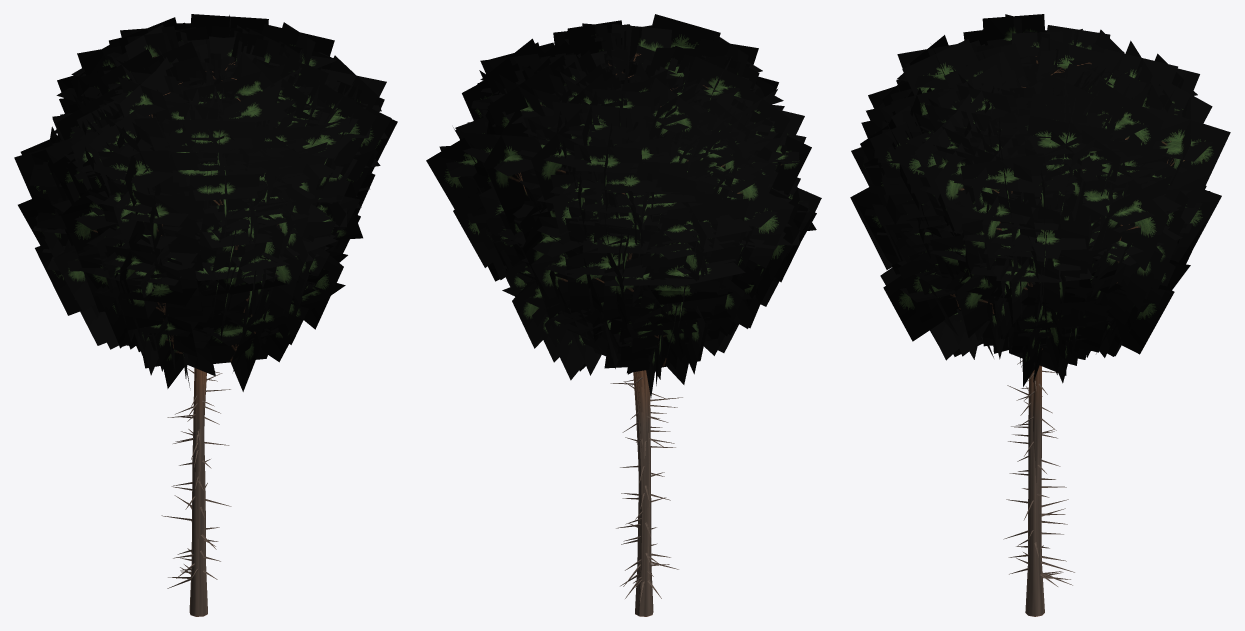
Rendered from tree_pine.glb.
3 views of the same model, side by side, from view 1: azimuth 30°, elevation 25°; view 2: azimuth 150°, elevation 25°; view 3: azimuth 270°, elevation 25° (orthographic).
Visible parts, largest first — view 1: V0_LOD0, V5_LOD0, V3_LOD0, V6_LOD0, V4_LOD0, V1_LOD0, V2_LOD0, V7_LOD0; view 2: V6_LOD0, V5_LOD0, V0_LOD0, V4_LOD0, V3_LOD0, V2_LOD0, V1_LOD0, V7_LOD0; view 3: V3_LOD0, V7_LOD0, V4_LOD0, V5_LOD0, V6_LOD0, V0_LOD0, V1_LOD0, V2_LOD0.
Boxes of the visible parts, x1,y1,x2,y2 form: V0_LOD0: [14, 14, 360, 616]; V5_LOD0: [31, 30, 397, 616]; V3_LOD0: [18, 17, 386, 615]; V6_LOD0: [52, 24, 375, 616]; V4_LOD0: [57, 23, 380, 616]; V1_LOD0: [66, 22, 384, 616]; V2_LOD0: [38, 27, 336, 616]; V7_LOD0: [52, 26, 391, 616]; V6_LOD0: [455, 24, 764, 616]; V5_LOD0: [453, 24, 819, 600]; V0_LOD0: [480, 35, 806, 616]; V4_LOD0: [463, 14, 821, 615]; V3_LOD0: [462, 38, 804, 616]; V2_LOD0: [473, 20, 785, 616]; V1_LOD0: [455, 48, 811, 616]; V7_LOD0: [426, 32, 816, 616]; V3_LOD0: [862, 37, 1188, 615]; V7_LOD0: [870, 31, 1181, 616]; V4_LOD0: [851, 25, 1230, 616]; V5_LOD0: [852, 40, 1206, 586]; V6_LOD0: [850, 14, 1206, 616]; V0_LOD0: [866, 50, 1221, 616]; V1_LOD0: [890, 30, 1212, 613]; V2_LOD0: [868, 45, 1198, 614].
Size of what is drawn, in the model's own units: 12.33 by 20.98 by 12.57.
Materials: 2 (2 with a texture image).
